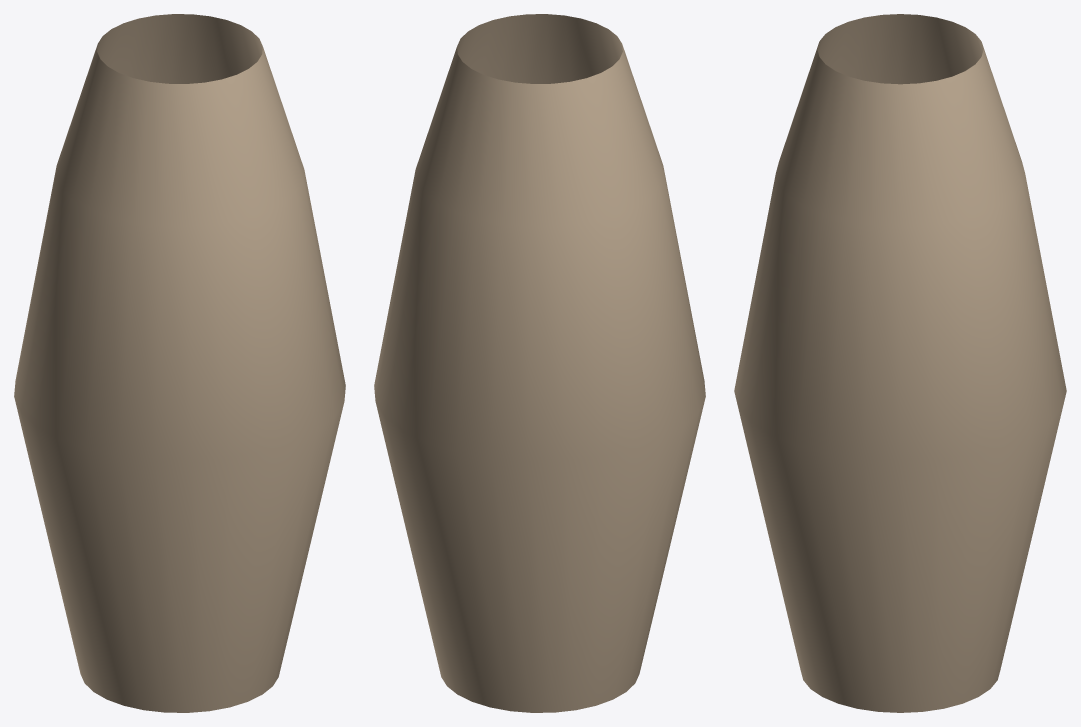
The model's file is SAB-VAS-std.glb.
The picture shows the model from 3 angles, left to right: view 1: azimuth 30°, elevation 25°; view 2: azimuth 150°, elevation 25°; view 3: azimuth 270°, elevation 25°; orthographic projection.
Visible parts, largest first — view 1: SAB-VAS-std; view 2: SAB-VAS-std; view 3: SAB-VAS-std.
Part boxes in pixels (bbox=[...]): SAB-VAS-std: bbox=[14, 14, 345, 712]; SAB-VAS-std: bbox=[374, 14, 705, 712]; SAB-VAS-std: bbox=[734, 14, 1066, 712].
Size of the model in its own units: 0.16 by 0.33 by 0.16.
